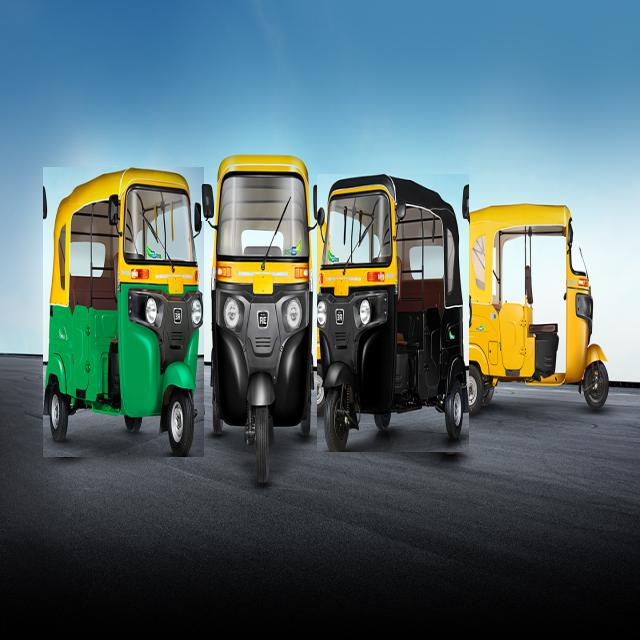autorickshaw: (44, 167, 204, 457), (318, 175, 469, 452), (211, 155, 314, 482), (461, 205, 609, 414), (201, 185, 214, 221), (314, 185, 325, 226)
